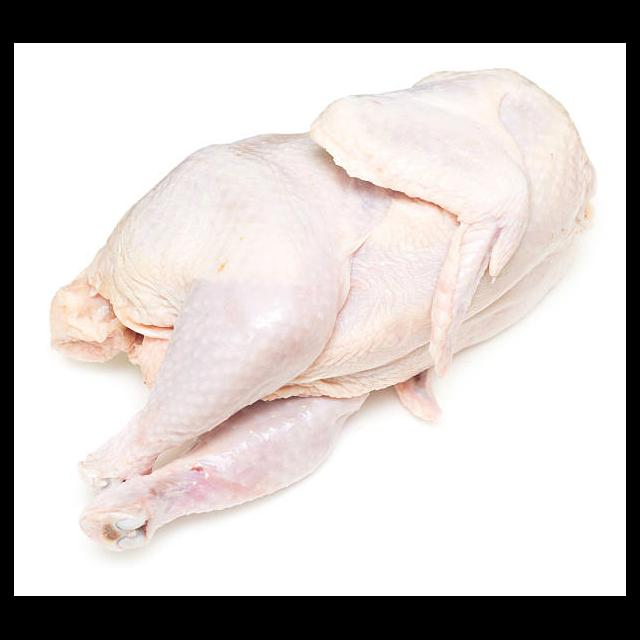chicken: (45, 66, 599, 554)
